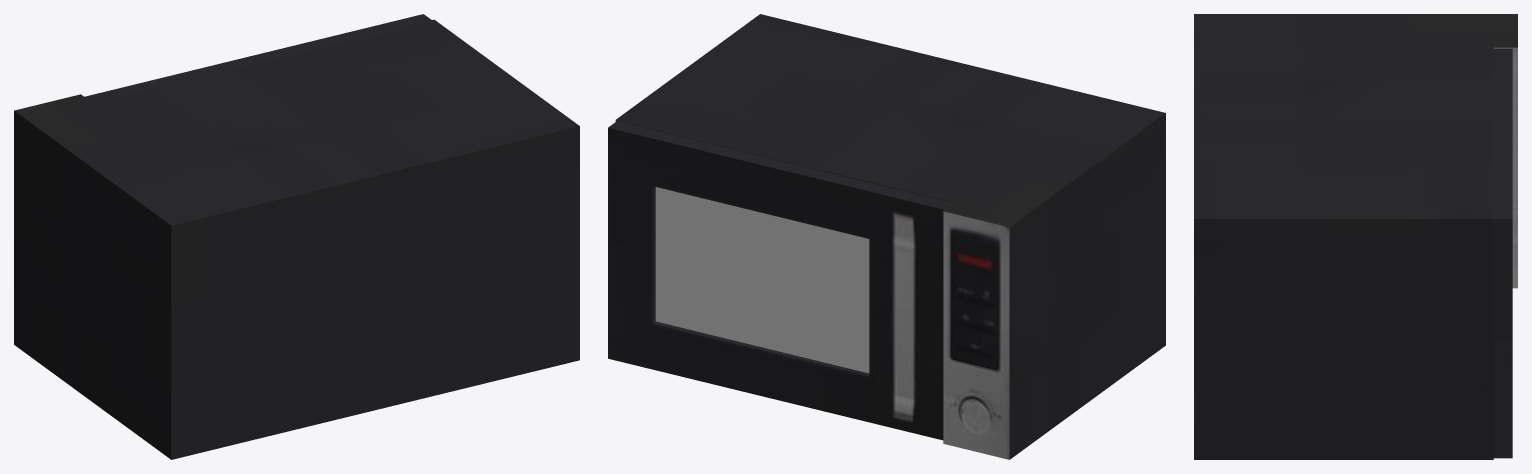
Rendered from microwave.fbx.
3 renders of one model, left to right at view 1: azimuth 30°, elevation 25°; view 2: azimuth 150°, elevation 25°; view 3: azimuth 270°, elevation 25°, orthographic. The views are drawn at different scales.
Parts seen in each view (by area): view 1: Microwave, Microwave_door; view 2: Microwave, Microwave_door; view 3: Microwave, Microwave_door.
Boxes of the visible parts, left/top/right/bottom form: Microwave: left=14, top=19, right=579, bottom=459; Microwave_door: left=84, top=14, right=431, bottom=102; Microwave: left=615, top=14, right=1165, bottom=459; Microwave_door: left=608, top=121, right=953, bottom=440; Microwave: left=1194, top=14, right=1517, bottom=459; Microwave_door: left=1493, top=48, right=1512, bottom=458.
Bounding box in the file's own units: 65.56 × 35.91 × 43.76.
Materials: 2 (1 with a texture image).
